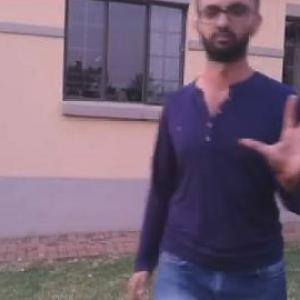follow_hand: (236, 87, 299, 196)
